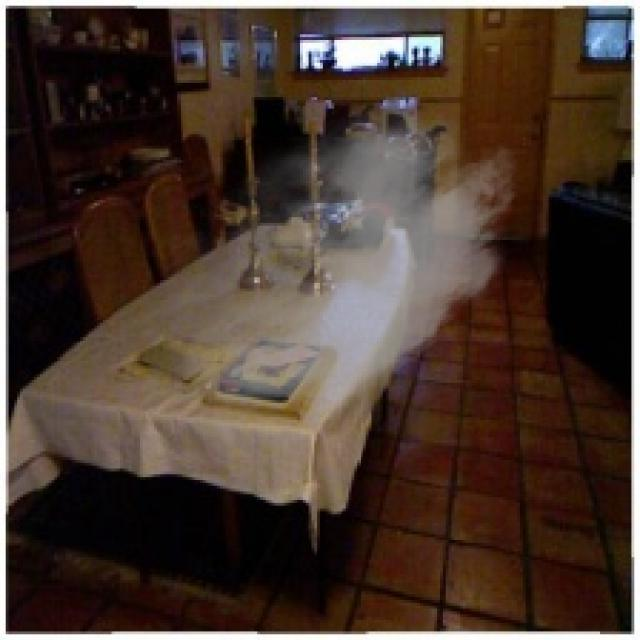Smoke: (119, 88, 532, 454)
